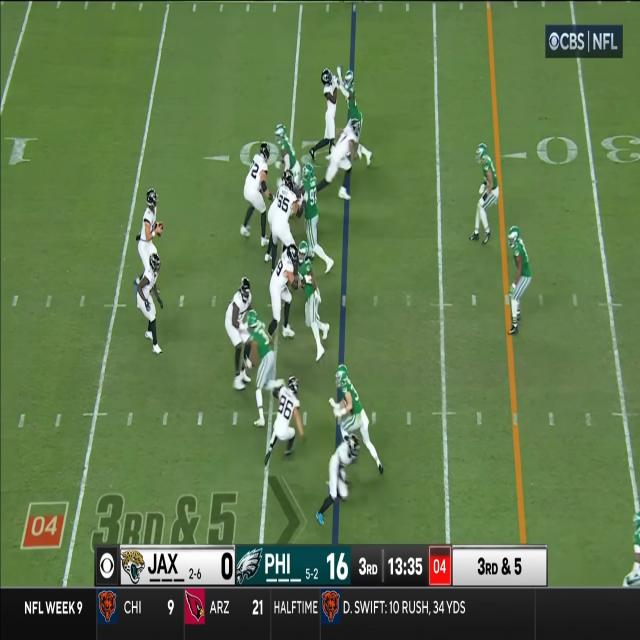Player: (298, 241, 329, 361), (319, 438, 359, 510), (242, 145, 269, 243), (225, 276, 248, 389), (269, 373, 299, 458), (328, 118, 358, 203), (508, 227, 532, 333), (270, 244, 296, 338), (248, 312, 269, 422), (474, 142, 496, 242), (138, 255, 160, 353), (335, 363, 364, 435), (274, 172, 298, 245), (318, 68, 337, 148), (304, 162, 322, 244), (138, 190, 156, 258), (275, 125, 298, 170), (346, 72, 362, 126)
